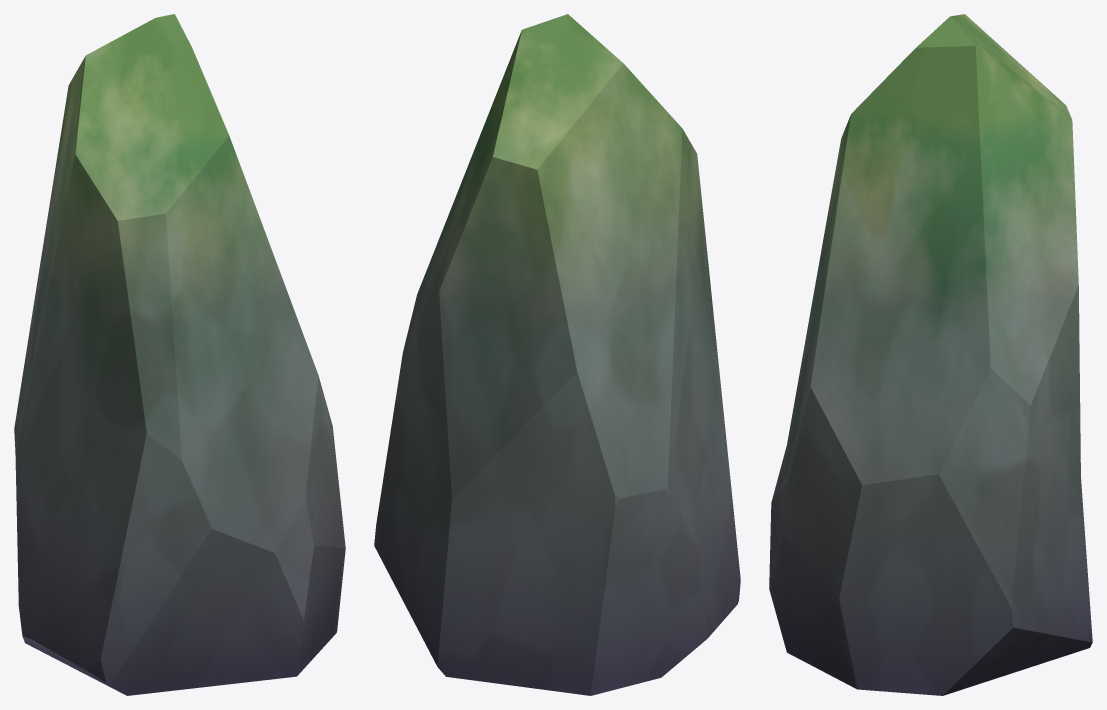
File: rock_medium.fbx
3 renders of one model, left to right at view 1: azimuth 30°, elevation 25°; view 2: azimuth 150°, elevation 25°; view 3: azimuth 270°, elevation 25°, orthographic. The views are drawn at different scales.
Parts seen in each view (by area): view 1: Sphere.001; view 2: Sphere.001; view 3: Sphere.001.
Boxes of the visible parts, left/top/right/bottom form: Sphere.001: left=14, top=14, right=345, bottom=695; Sphere.001: left=374, top=14, right=740, bottom=695; Sphere.001: left=769, top=14, right=1092, bottom=695.
Bounding box in the file's own units: 204 × 404 × 195.
Materials: 1 (1 with a texture image).
